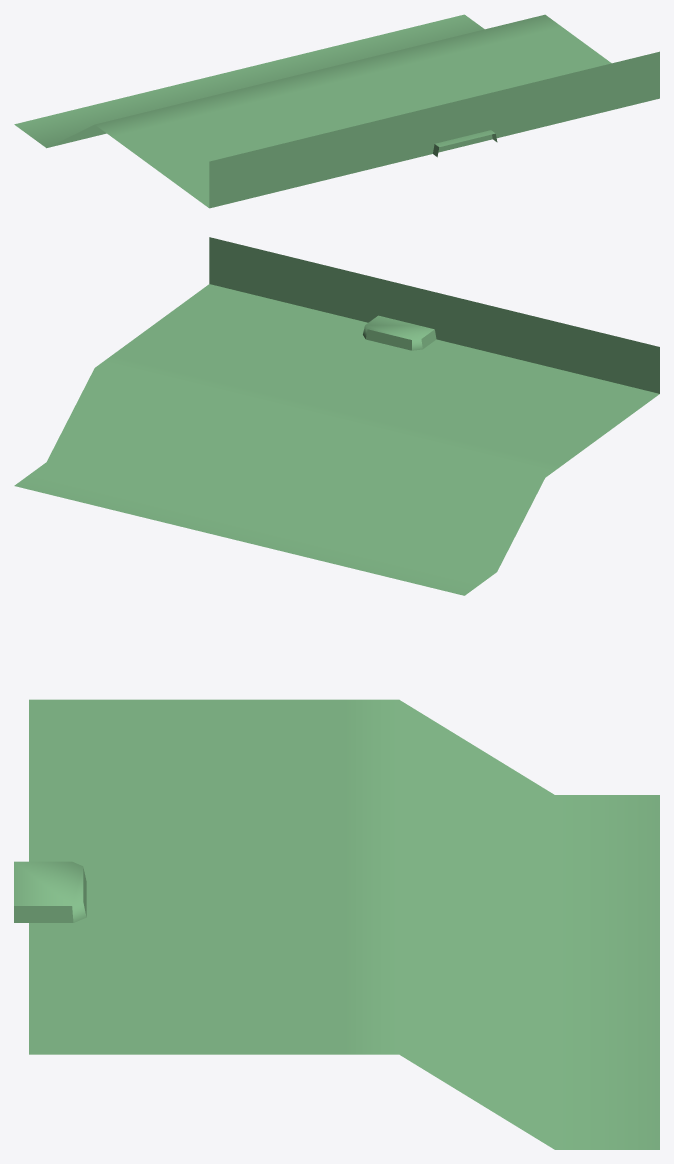
File: Room_Wall_16_B_COL.fbx
3 renders of one model, top to bottom at view 1: azimuth 30°, elevation 25°; view 2: azimuth 150°, elevation 25°; view 3: azimuth 270°, elevation 25°, orthographic. The views are drawn at different scales.
Visible parts, largest first — view 1: Room_Wall_16_B_COL; view 2: Room_Wall_16_B_COL; view 3: Room_Wall_16_B_COL.
Boxes of the visible parts, box(x1,y1,x2,y2) form: Room_Wall_16_B_COL: box(14, 14, 659, 208); Room_Wall_16_B_COL: box(14, 237, 659, 595); Room_Wall_16_B_COL: box(14, 699, 659, 1149).
Size of the model in its own units: 1600 by 359 by 1230.
